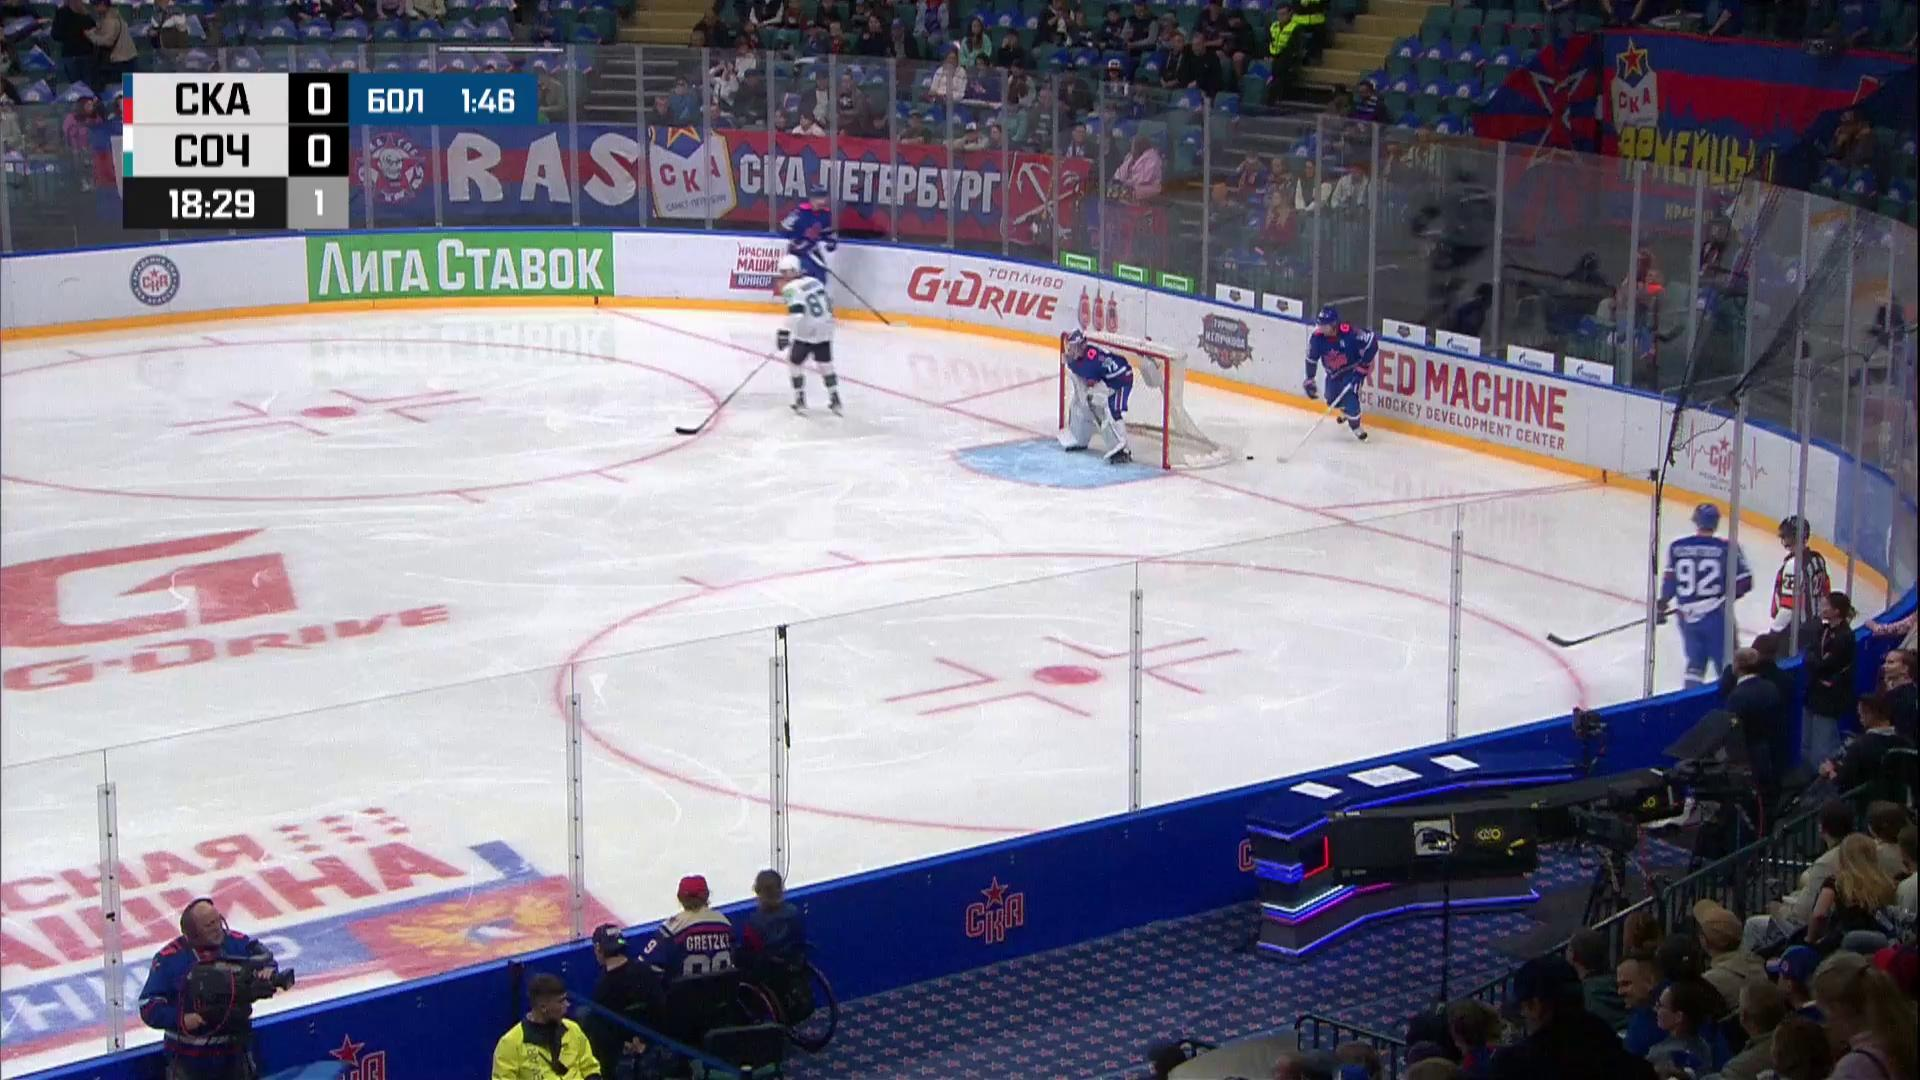ball: (1246, 455, 1255, 462)
